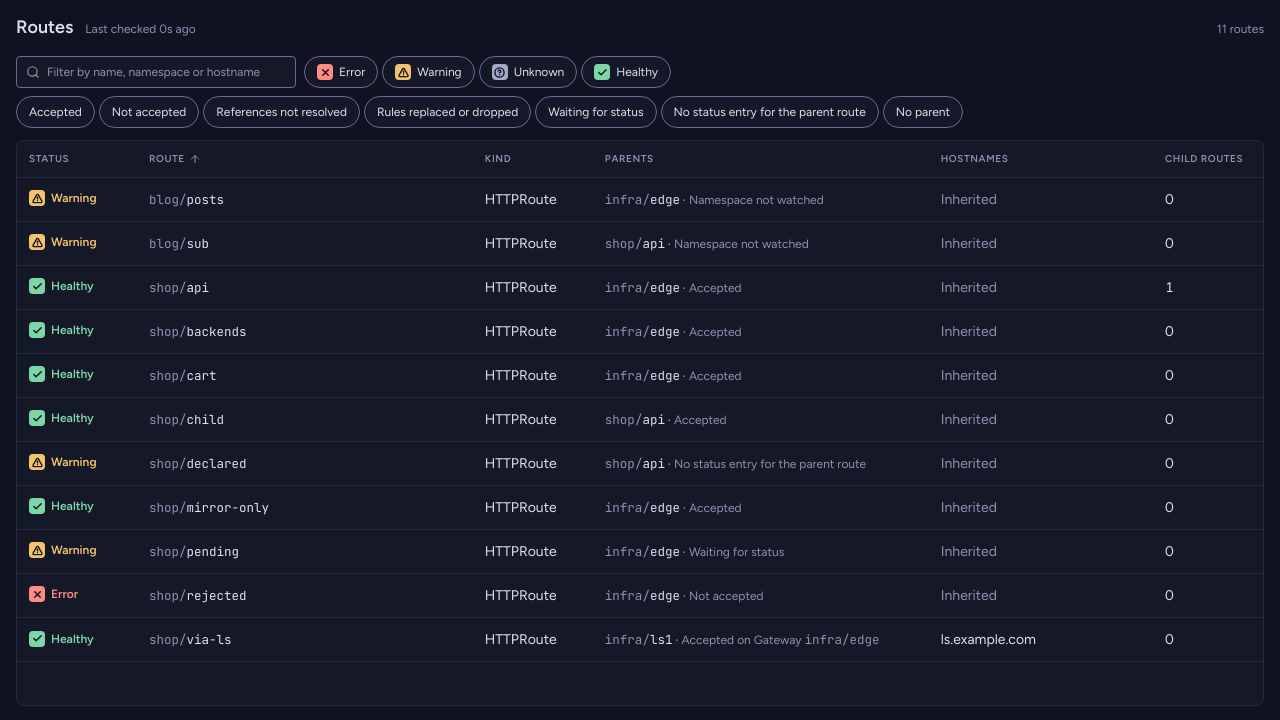
Test: an error on a new query never shows the previous query's rows
Expected: the text "rejected" is shown, [186,586,246,604]
Click the button "Error" at point(341, 72), box [304,56,378,88]
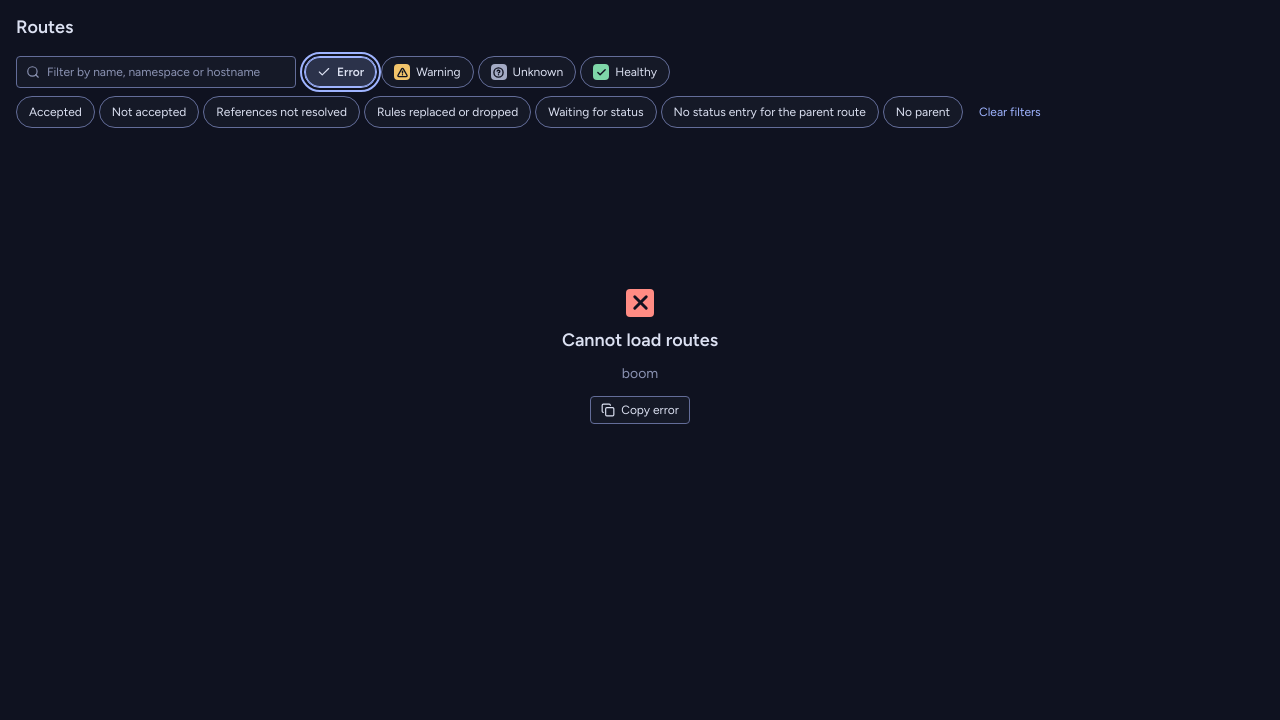
Expected: the heading "Cannot load routes" is shown, [562,328,718,350]
Expected: the link "rejected" is gone
Expected: the text "11 routes" is gone
